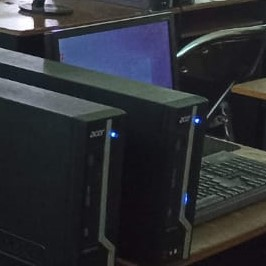monitor: (50, 12, 179, 90)
